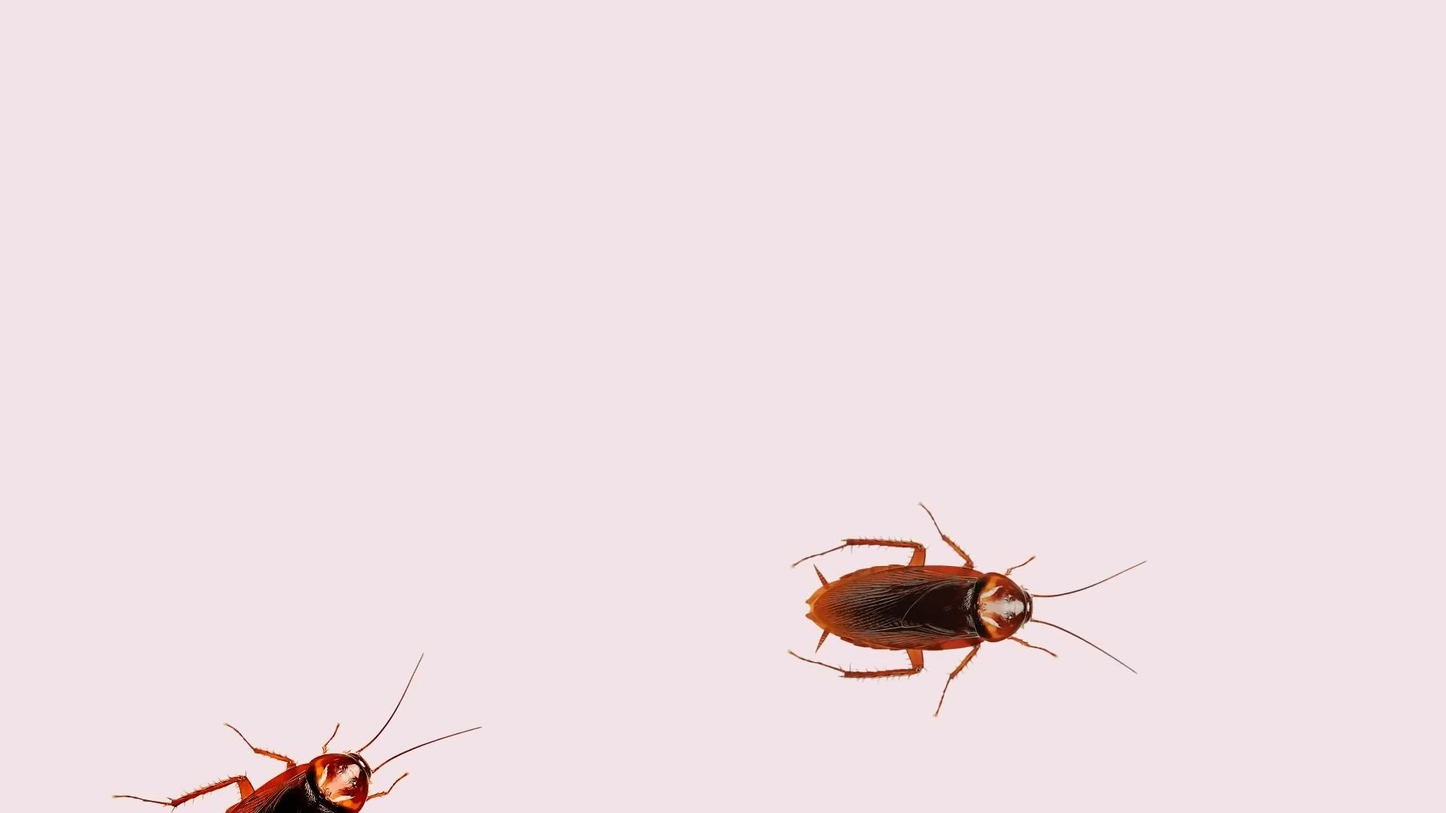cockroach: (801, 524, 1066, 679), (162, 685, 463, 813)
